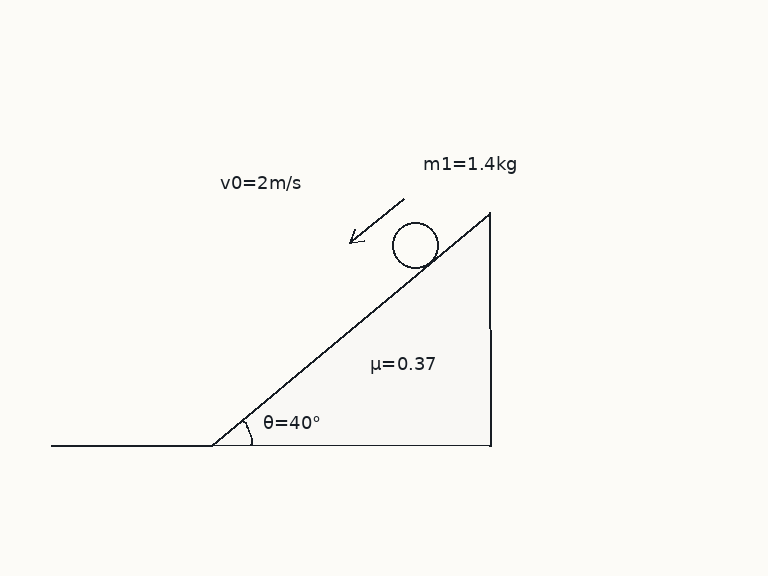ball: (390, 220, 440, 270)
ramp: (210, 210, 491, 447)
